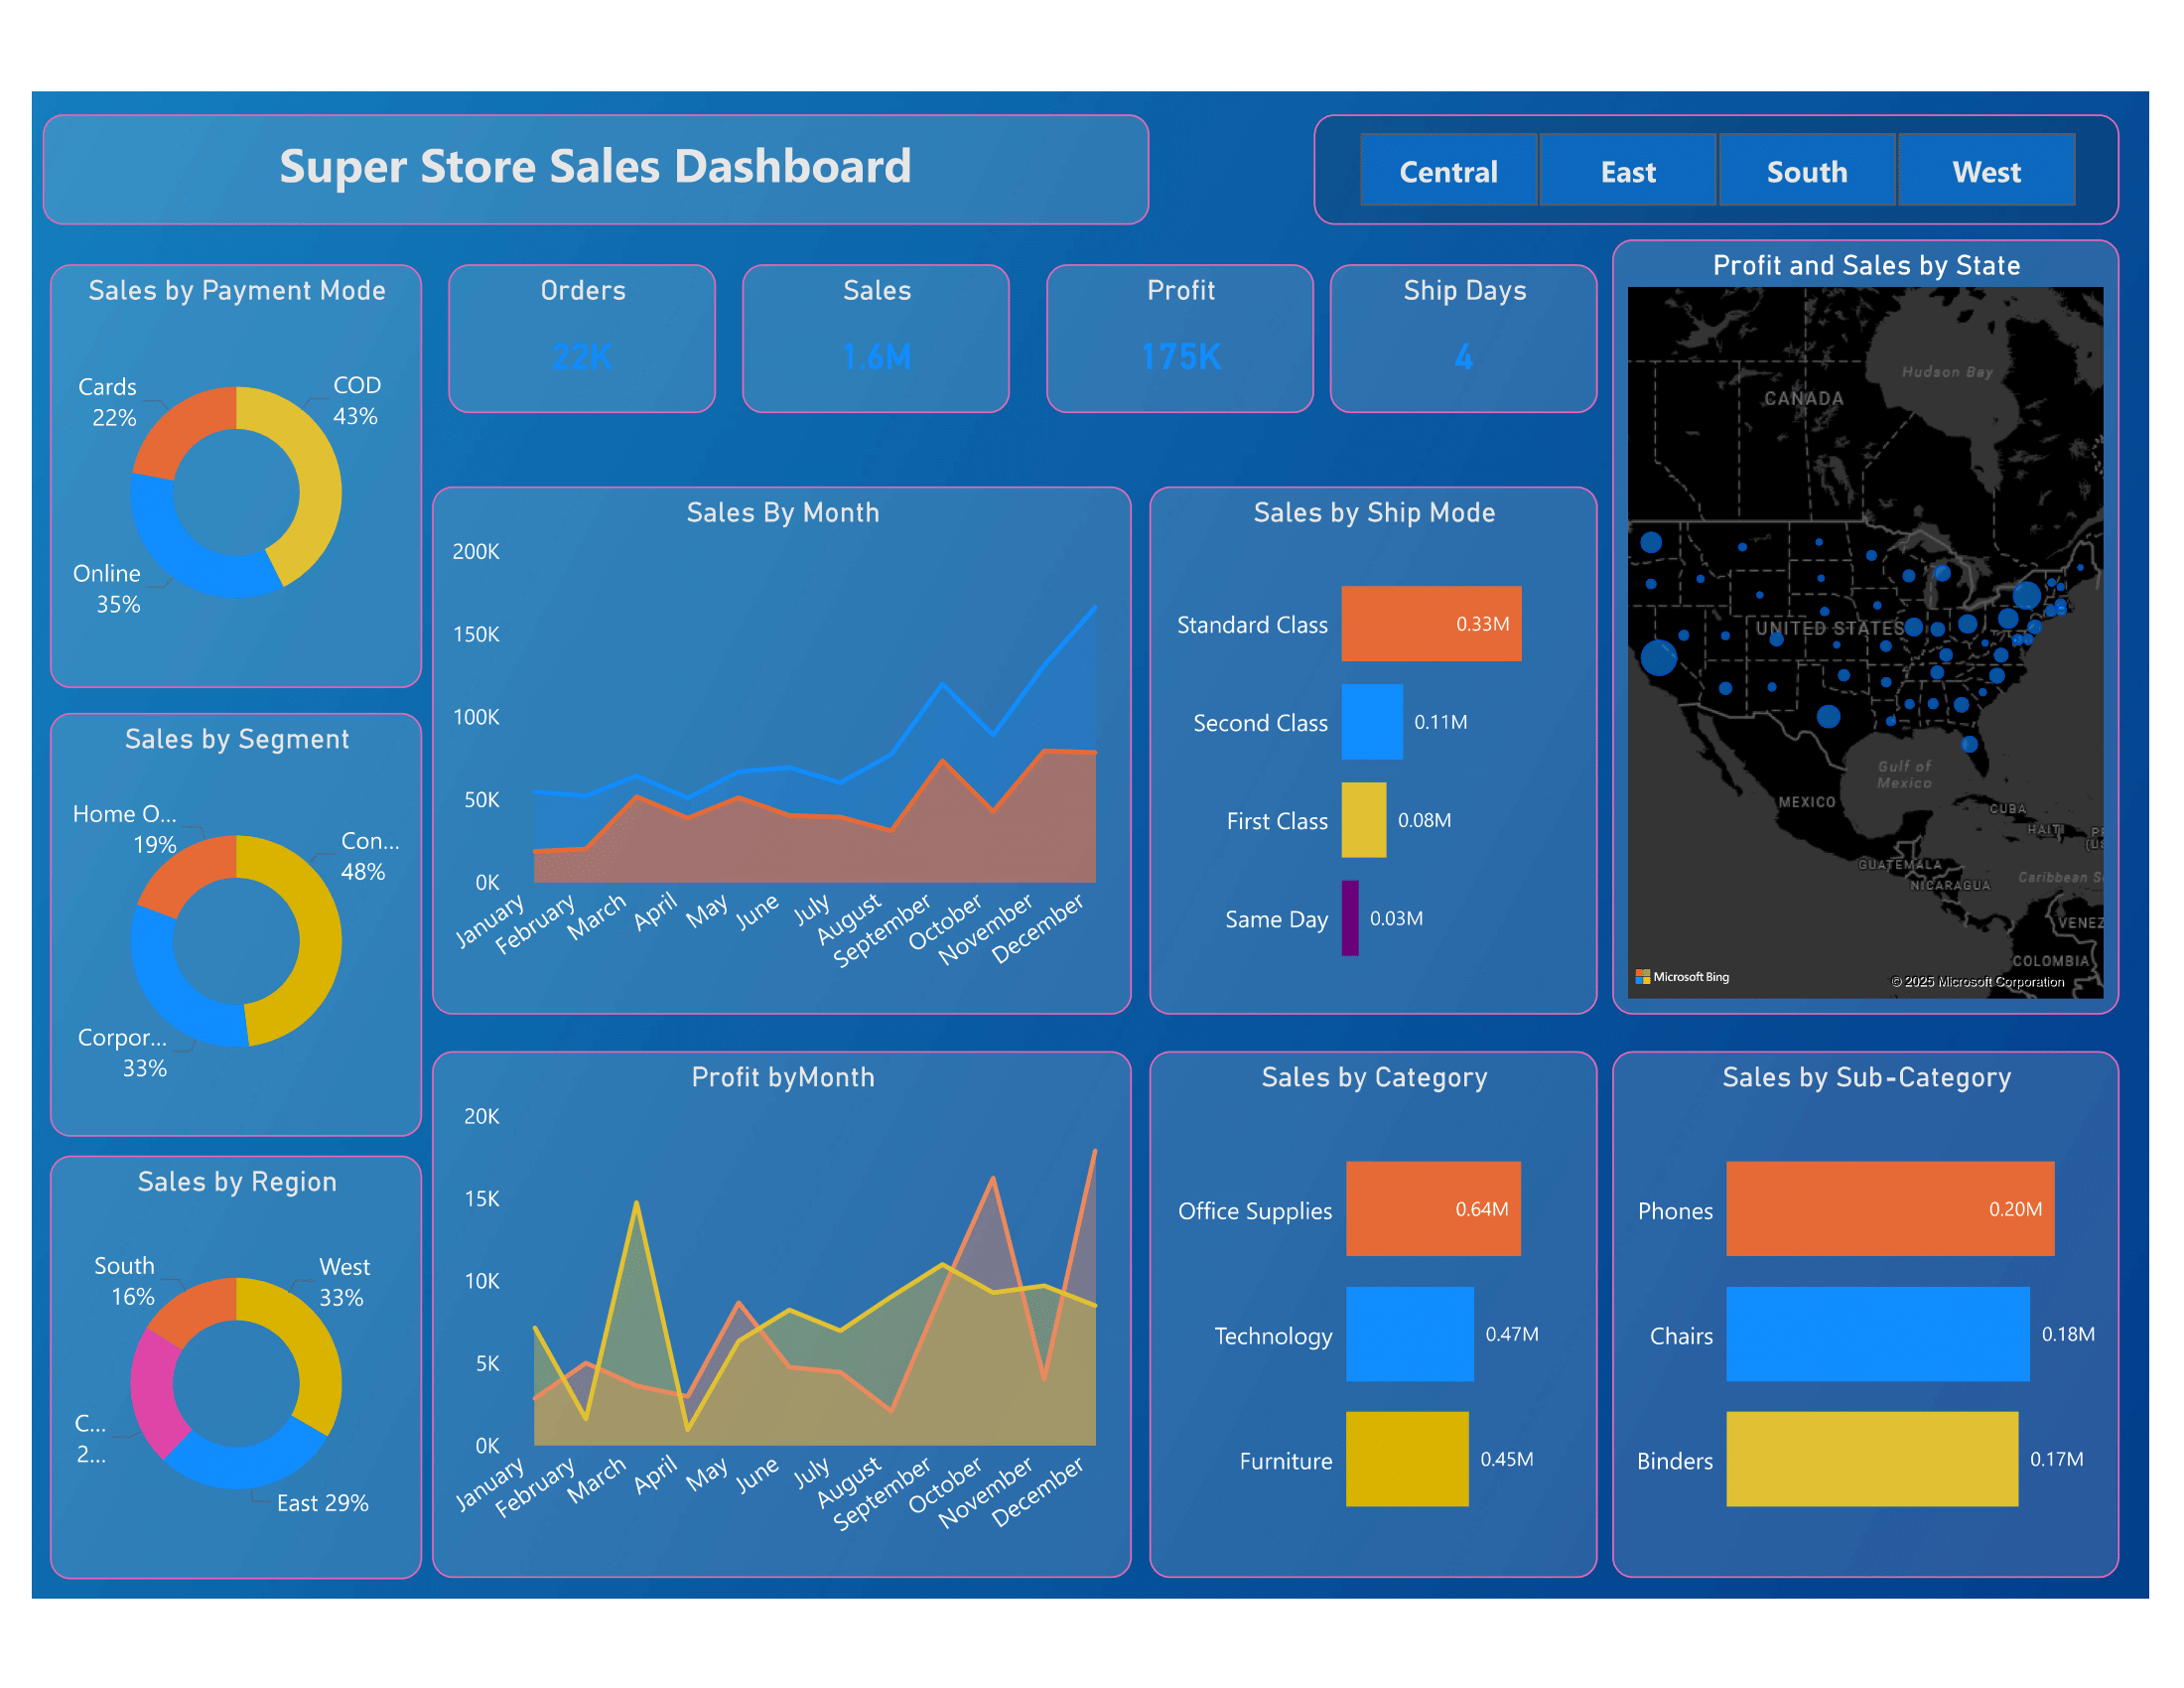

The page's visual inventory and layout, read from the dashboard file:
{"tool":"powerbi","page":{"name":"Dashboard","canvas":[1440,1024],"ordinal":0},"visuals":[{"type":"clusteredBarChart","title":"Sales by Category","fields":{"Category":["SuperStore_Sales_Dataset.Category"],"Y":["Sum(SuperStore_Sales_Dataset.Sales)"]},"box":[760,651.7,305,358.3],"z":0},{"type":"clusteredBarChart","title":"Sales by Sub-Category","fields":{"Category":["SuperStore_Sales_Dataset.Sub-Category"],"Y":["Sum(SuperStore_Sales_Dataset.Sales)"]},"box":[1075,651.7,345,358.3],"z":1000},{"type":"clusteredBarChart","title":"Sales by Ship Mode","fields":{"Category":["SuperStore_Sales_Dataset.Ship Mode"],"Y":["Sum(SuperStore_Sales_Dataset.Sales)"]},"box":[760,268.3,305,358.3],"z":2000},{"type":"areaChart","title":"Sales By Month","fields":{"Category":["SuperStore_Sales_Dataset.Order Date.Variation.Date Hierarchy.Month","SuperStore_Sales_Dataset.Order Date.Variation.Date Hierarchy.Day"],"Y":["Sum(SuperStore_Sales_Dataset.Sales)"],"Series":["SuperStore_Sales_Dataset.Order Date.Variation.Date Hierarchy.Year"]},"box":[271.7,268.3,476.7,358.3],"z":2001},{"type":"areaChart","title":"Profit byMonth","fields":{"Category":["SuperStore_Sales_Dataset.Order Date.Variation.Date Hierarchy.Month","SuperStore_Sales_Dataset.Order Date.Variation.Date Hierarchy.Day"],"Series":["SuperStore_Sales_Dataset.Order Date.Variation.Date Hierarchy.Year"],"Y":["Sum(SuperStore_Sales_Dataset.Profit)"]},"box":[271.7,651.7,476.7,358.3],"z":2002},{"type":"map","title":"Profit and Sales by State","fields":{"Category":["SuperStore_Sales_Dataset.State"],"Size":["Sum(SuperStore_Sales_Dataset.Sales)"]},"box":[1075,100,345,526.7],"z":2003},{"type":"donutChart","title":"Sales by Segment","fields":{"Y":["Sum(SuperStore_Sales_Dataset.Sales)"],"Category":["SuperStore_Sales_Dataset.Segment"]},"box":[11.7,421.7,253.3,288.3],"z":2005},{"type":"donutChart","title":"Sales by Payment Mode","fields":{"Y":["Sum(SuperStore_Sales_Dataset.Sales)"],"Category":["SuperStore_Sales_Dataset.Payment Mode"]},"box":[11.7,116.7,253.3,288],"z":2006},{"type":"donutChart","title":"Sales by Region","fields":{"Y":["Sum(SuperStore_Sales_Dataset.Sales)"],"Category":["SuperStore_Sales_Dataset.Region"]},"box":[11.7,723.3,253.3,288],"z":2007},{"type":"slicer","fields":{"Values":["SuperStore_Sales_Dataset.Region"]},"box":[871.7,15,548.3,75],"z":2008},{"type":"textbox","box":[6.7,15,753.3,75],"z":2009},{"type":"card","title":"Sales","fields":{"Values":["Sum(SuperStore_Sales_Dataset.Sales)"]},"box":[483.3,116.7,181.7,101.7],"z":2010},{"type":"card","title":"Profit","fields":{"Values":["Sum(SuperStore_Sales_Dataset.Profit)"]},"box":[690,116.7,181.7,101.7],"z":2011},{"type":"card","title":"Orders","fields":{"Values":["Sum(SuperStore_Sales_Dataset.Quantity)"]},"box":[283.3,116.7,181.7,101.7],"z":2012},{"type":"card","title":"Ship Days","fields":{"Values":["Avg(SuperStore_Sales_Dataset.AvgDelivery)"]},"box":[883.3,116.7,181.7,101.7],"z":2013}]}

Visuals, with their boxes on the page's 1440x1024 design canvas (x1, y1, x2, y2). These are canvas units, not pixel positions in the 2184x1688 screenshot, which may show the page scaled, cropped or inside an application window:
"Sales by Category" clusteredBarChart: (x1=760, y1=652, x2=1065, y2=1010)
"Sales by Sub-Category" clusteredBarChart: (x1=1075, y1=652, x2=1420, y2=1010)
"Sales by Ship Mode" clusteredBarChart: (x1=760, y1=268, x2=1065, y2=627)
"Sales By Month" areaChart: (x1=272, y1=268, x2=748, y2=627)
"Profit byMonth" areaChart: (x1=272, y1=652, x2=748, y2=1010)
"Profit and Sales by State" map: (x1=1075, y1=100, x2=1420, y2=627)
"Sales by Segment" donutChart: (x1=12, y1=422, x2=265, y2=710)
"Sales by Payment Mode" donutChart: (x1=12, y1=117, x2=265, y2=405)
"Sales by Region" donutChart: (x1=12, y1=723, x2=265, y2=1011)
slicer - SuperStore_Sales_Dataset.Region: (x1=872, y1=15, x2=1420, y2=90)
textbox: (x1=7, y1=15, x2=760, y2=90)
"Sales" card: (x1=483, y1=117, x2=665, y2=218)
"Profit" card: (x1=690, y1=117, x2=872, y2=218)
"Orders" card: (x1=283, y1=117, x2=465, y2=218)
"Ship Days" card: (x1=883, y1=117, x2=1065, y2=218)
